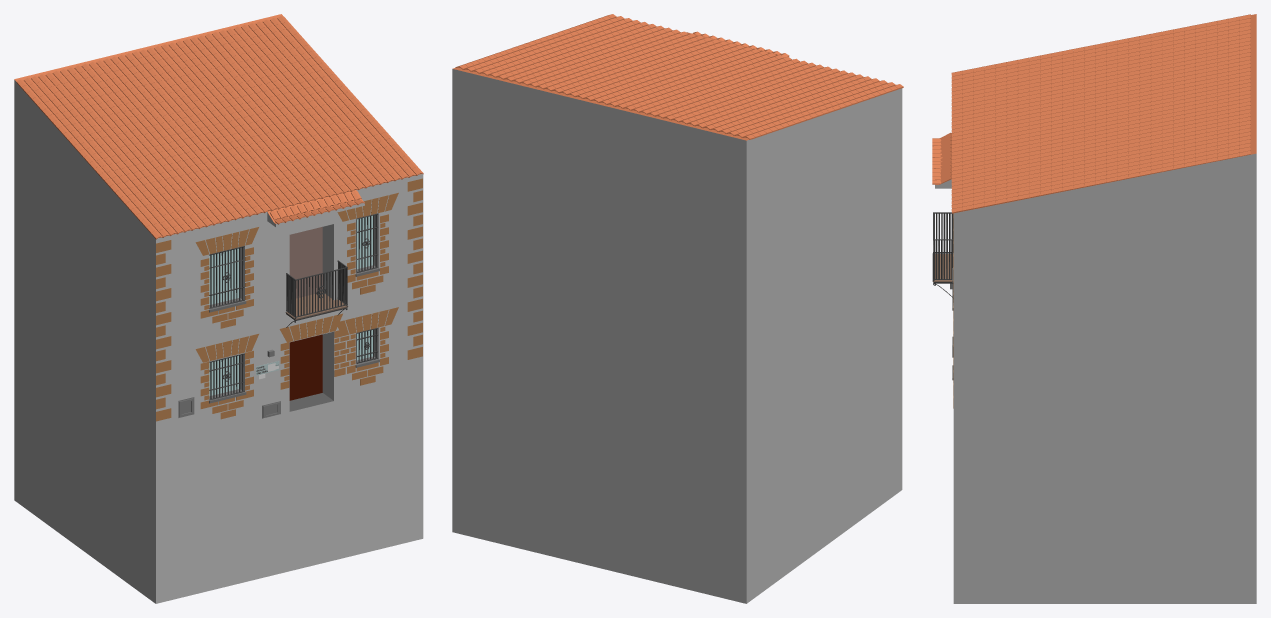
The model's file is 10_Centro_Innovacion_Jesus_Jimenez.fbx.
3 renders of one model, left to right at view 1: azimuth 30°, elevation 25°; view 2: azimuth 150°, elevation 25°; view 3: azimuth 270°, elevation 25°, orthographic. The views are drawn at different scales.
Parts seen in each view (by area): view 1: Fachada.002, Tejas_2.006, Rectangulo grande Izquierdo.014, Sphere.001, Plataforma; view 2: Fachada.002, Tejas_2.006; view 3: Fachada.002, Tejas_2.006, Sphere.001, Plataforma.
Part boxes in pixels (x1,y1,x2,y2): Fachada.002: [14, 14, 423, 603]; Tejas_2.006: [16, 16, 423, 239]; Rectangulo grande Izquierdo.014: [156, 178, 422, 421]; Sphere.001: [209, 213, 378, 400]; Plataforma: [285, 299, 348, 327]; Fachada.002: [452, 67, 902, 603]; Tejas_2.006: [455, 14, 903, 139]; Fachada.002: [935, 14, 1256, 603]; Tejas_2.006: [932, 14, 1250, 213]; Sphere.001: [933, 212, 953, 281]; Plataforma: [932, 253, 953, 297].
Bounding box in the file's own units: 953 × 1436 × 935.
